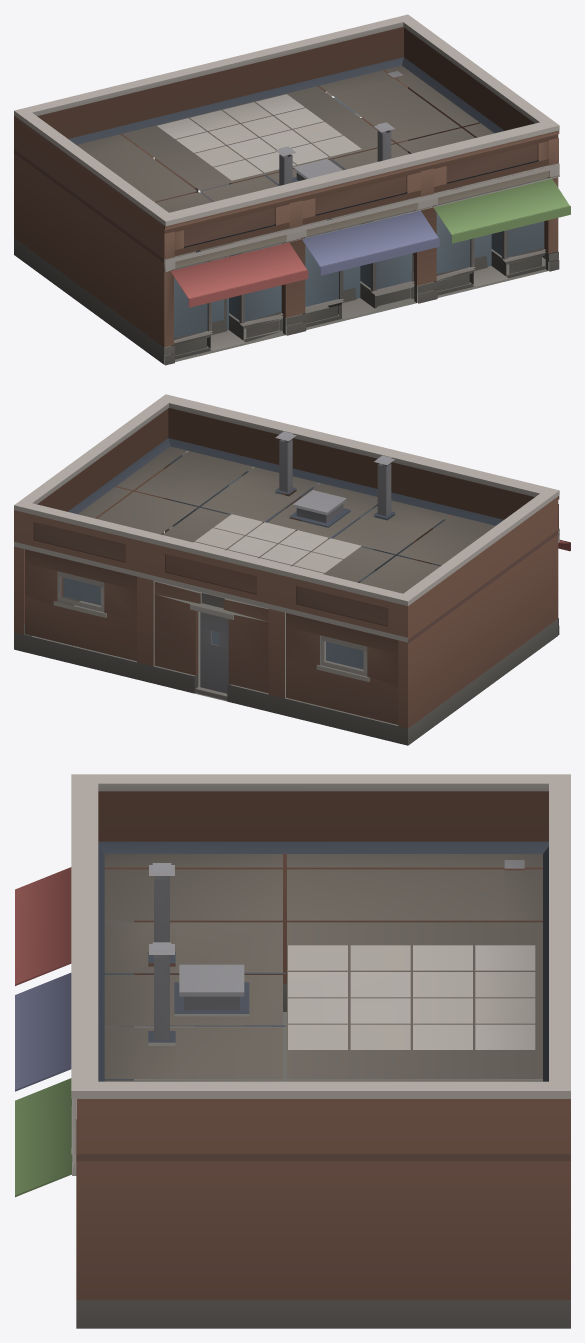
File: shoprow.lod.glb
3 renders of one model, top to bottom at view 1: azimuth 30°, elevation 25°; view 2: azimuth 150°, elevation 25°; view 3: azimuth 270°, elevation 25°, orthographic. The views are drawn at different scales.
Parts seen in each view (by area): view 1: shoprow; view 2: shoprow; view 3: shoprow.
Part boxes in pixels (bbox=[...]): shoprow: bbox=[14, 14, 570, 365]; shoprow: bbox=[14, 394, 570, 745]; shoprow: bbox=[15, 774, 570, 1328].
Bounding box in the file's own units: 12 × 4.66 × 8.92.
